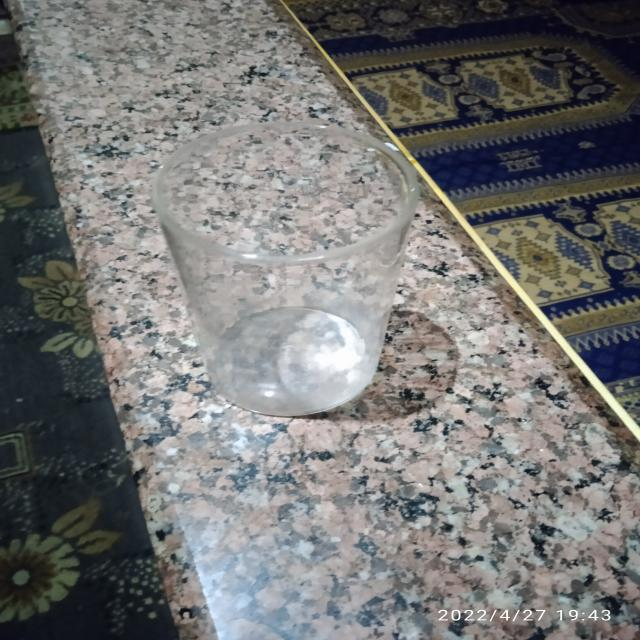Glass: (148, 116, 424, 420)
